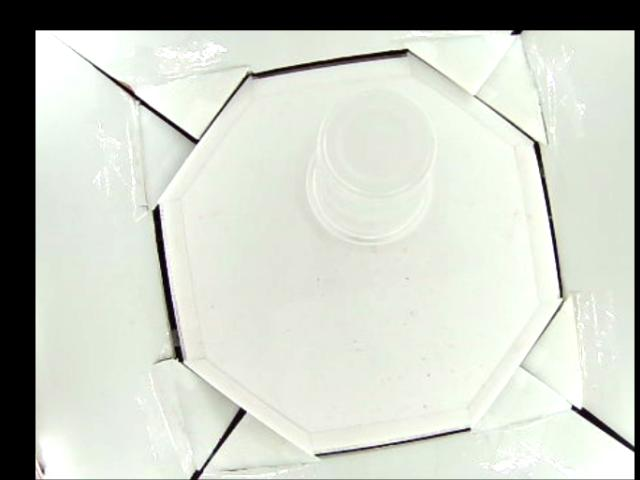Cup: (308, 88, 436, 241)
